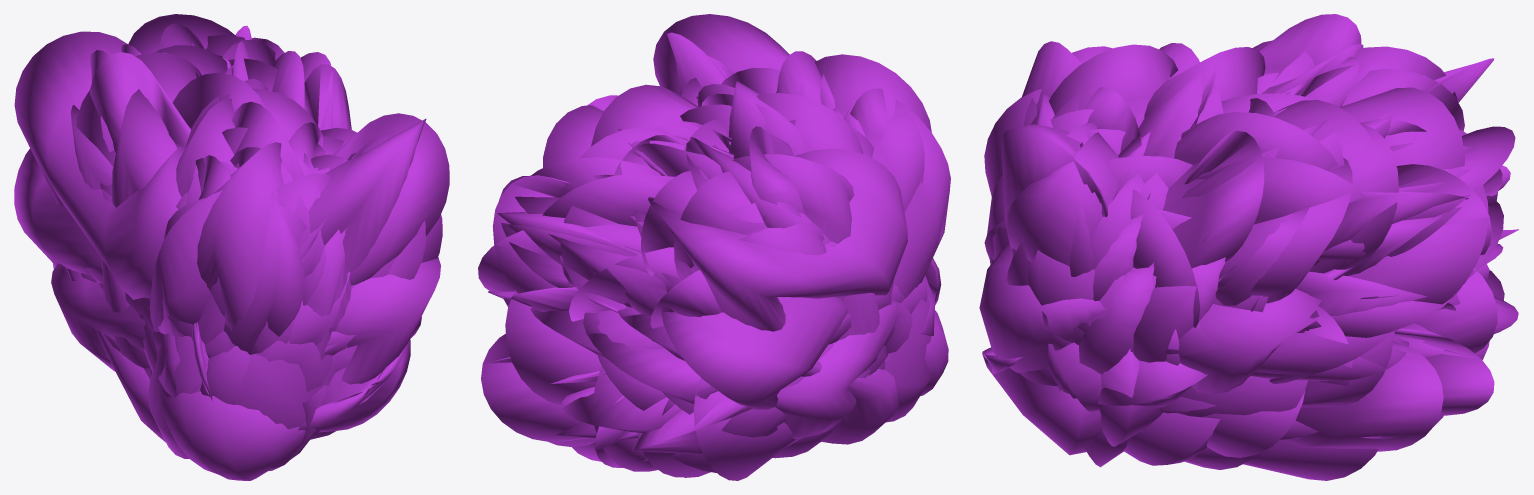
The picture shows the model from 3 angles, left to right: view 1: azimuth 30°, elevation 25°; view 2: azimuth 150°, elevation 25°; view 3: azimuth 270°, elevation 25°; orthographic projection. The views are drawn at different scales.
Visible parts, largest first — view 1: RT_CE; view 2: RT_CE; view 3: RT_CE.
Part boxes in pixels (left/top/right/bottom): RT_CE: left=14, top=14, right=449, bottom=480; RT_CE: left=478, top=14, right=950, bottom=480; RT_CE: left=979, top=14, right=1518, bottom=480.
Size of the model in its own units: 11.9 by 13.29 by 16.44.
